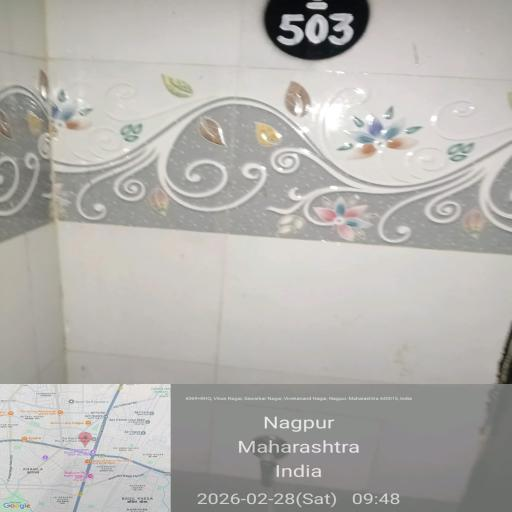clean_floor: (44, 48, 493, 492)
